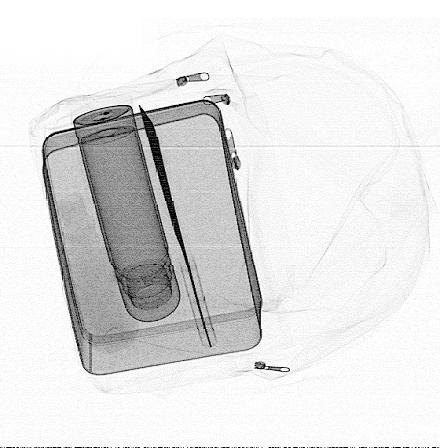Knife: (136, 101, 219, 350)
